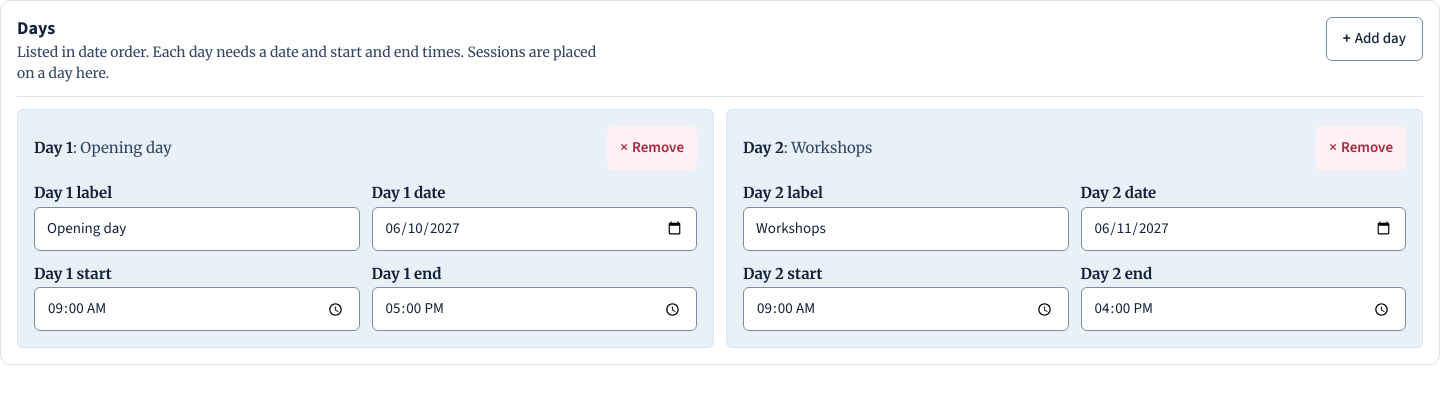
Test: EventDaysEditor › removes an unused day at once, says it goes on save, and keeps the other day’s id
Click the button with aria-label "Remove day 1, Opening day" at [652, 148], box [607,126,697,170]
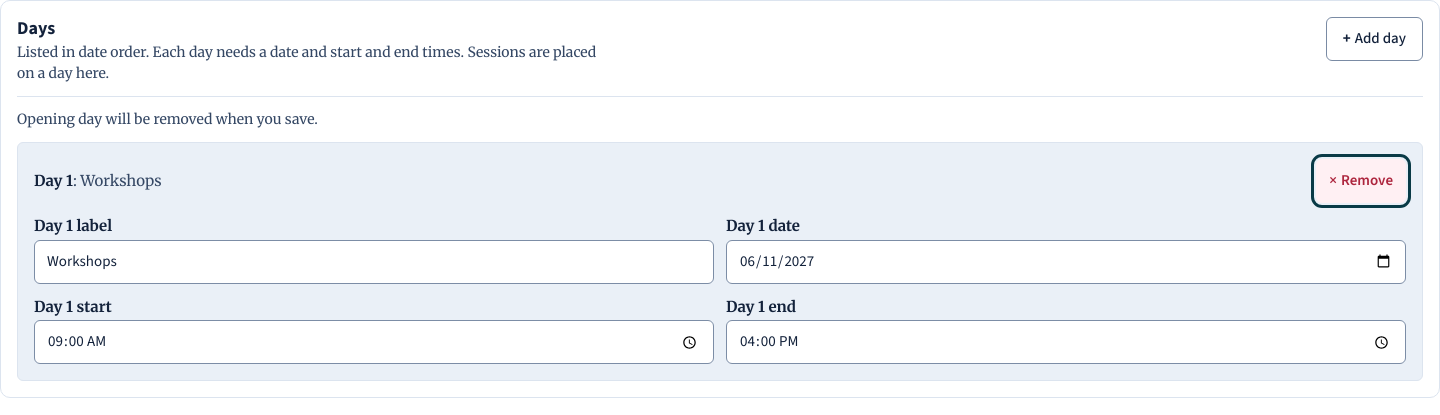
Expected: the message reads "Opening day will be removed when you save.", [17,110,318,128]
